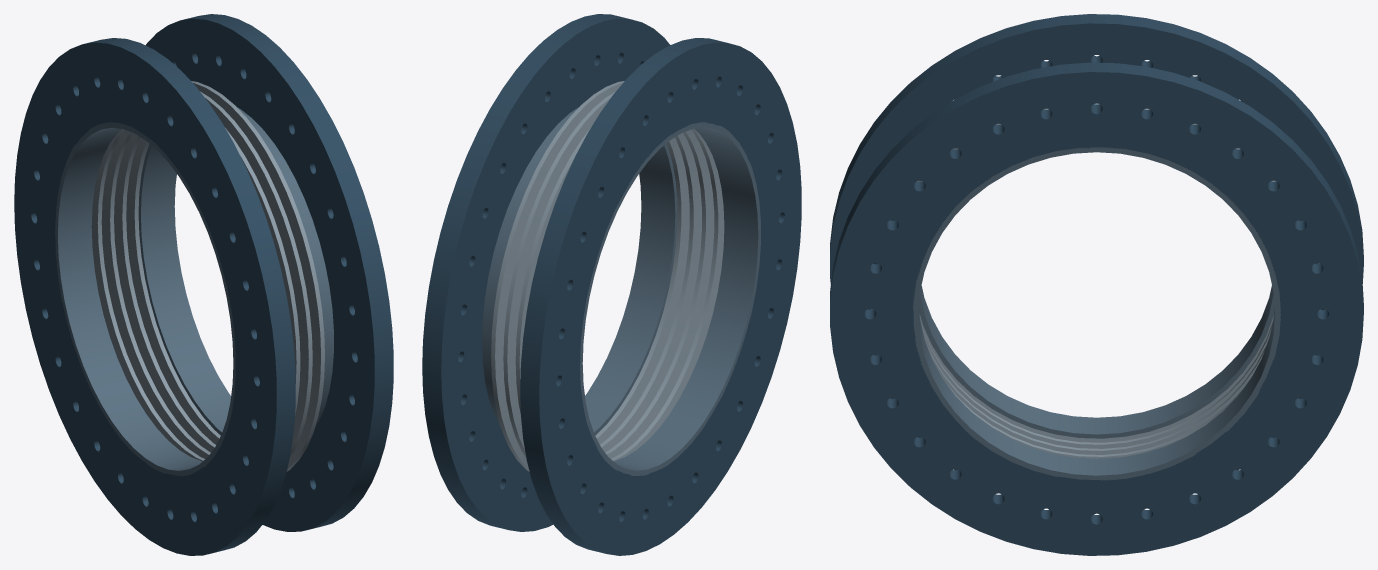
Rendered from flan-dn1000-L380-D1020-f.glb.
3 renders of one model, left to right at view 1: azimuth 30°, elevation 25°; view 2: azimuth 150°, elevation 25°; view 3: azimuth 270°, elevation 25°, orthographic.
Parts seen in each view (by area): view 1: homut_flanec_1, homut_flanec_2, prokladka_silfon_1, patrubok_1, patrubok_2; view 2: homut_flanec_1, homut_flanec_2, prokladka_silfon_1, patrubok_1, patrubok_2; view 3: homut_flanec_2, homut_flanec_1, patrubok_2, patrubok_1, prokladka_silfon_1.
Part boxes in pixels (x1,y1,x2,y2): homut_flanec_1: (14,38,295,555); homut_flanec_2: (145,14,393,531); prokladka_silfon_1: (91,81,324,471); patrubok_1: (55,122,235,476); patrubok_2: (138,107,333,435); homut_flanec_1: (520,38,801,555); homut_flanec_2: (422,14,669,531); prokladka_silfon_1: (491,81,724,471); patrubok_1: (580,122,760,476); patrubok_2: (482,106,677,435); homut_flanec_2: (830,62,1363,555); homut_flanec_1: (830,14,1363,470); patrubok_2: (913,147,1280,480); patrubok_1: (919,286,1274,438); prokladka_silfon_1: (917,103,1276,458).
Size of the model in its own units: 380 by 1478 by 1478.
